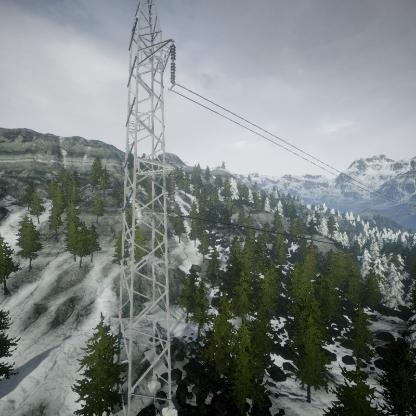tower: (122, 1, 182, 416)
